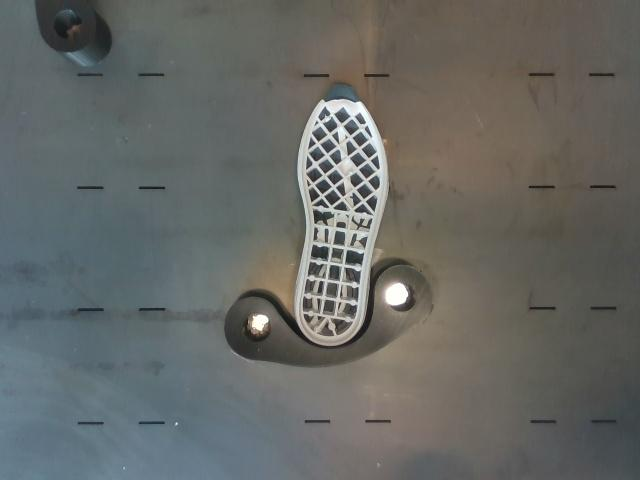shoes: (298, 83, 386, 344)
